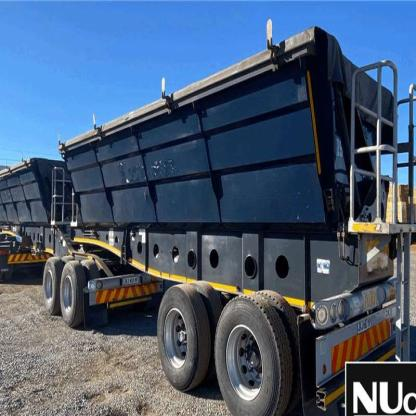dump_truck: (4, 18, 416, 407)
